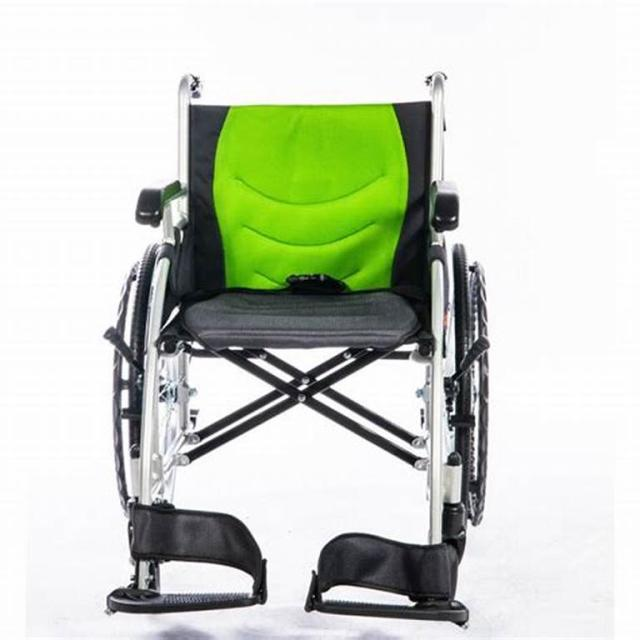wheelchairs: (104, 72, 500, 630)
